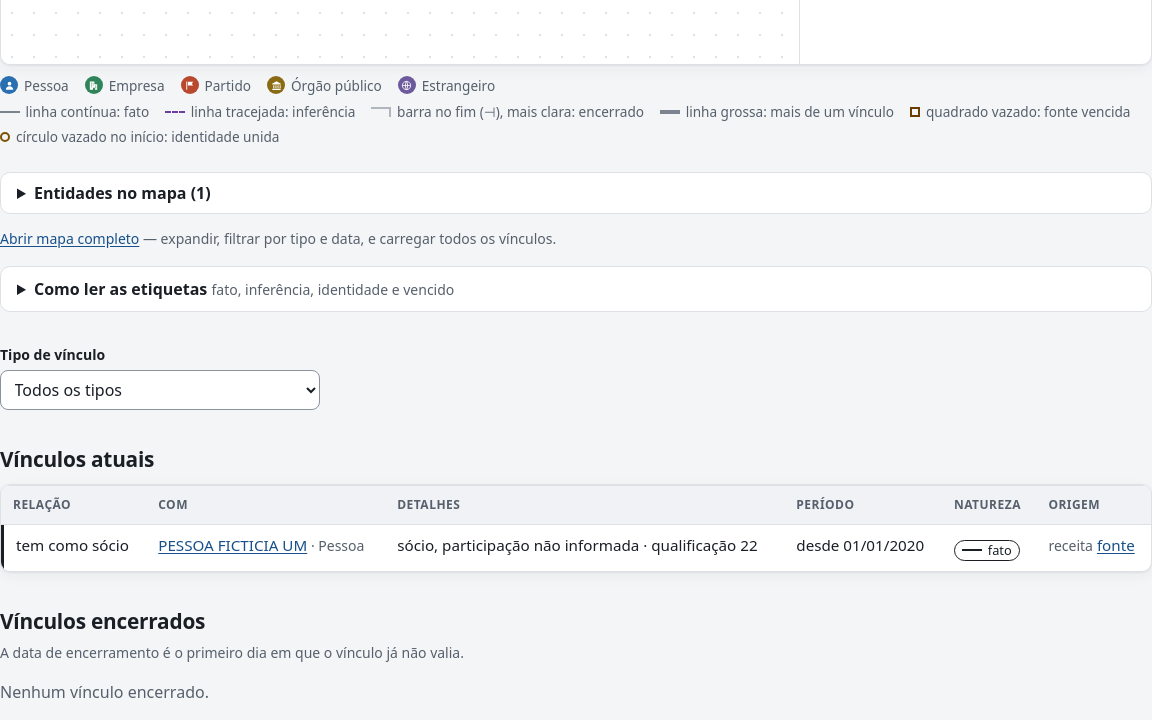
Scenario: EntityPage › clicar na fonte de um vínculo abre a proveniência dele
(page scrolled)
Click the button "fonte". click: (1116, 546)
box: [1097,534,1135,558]
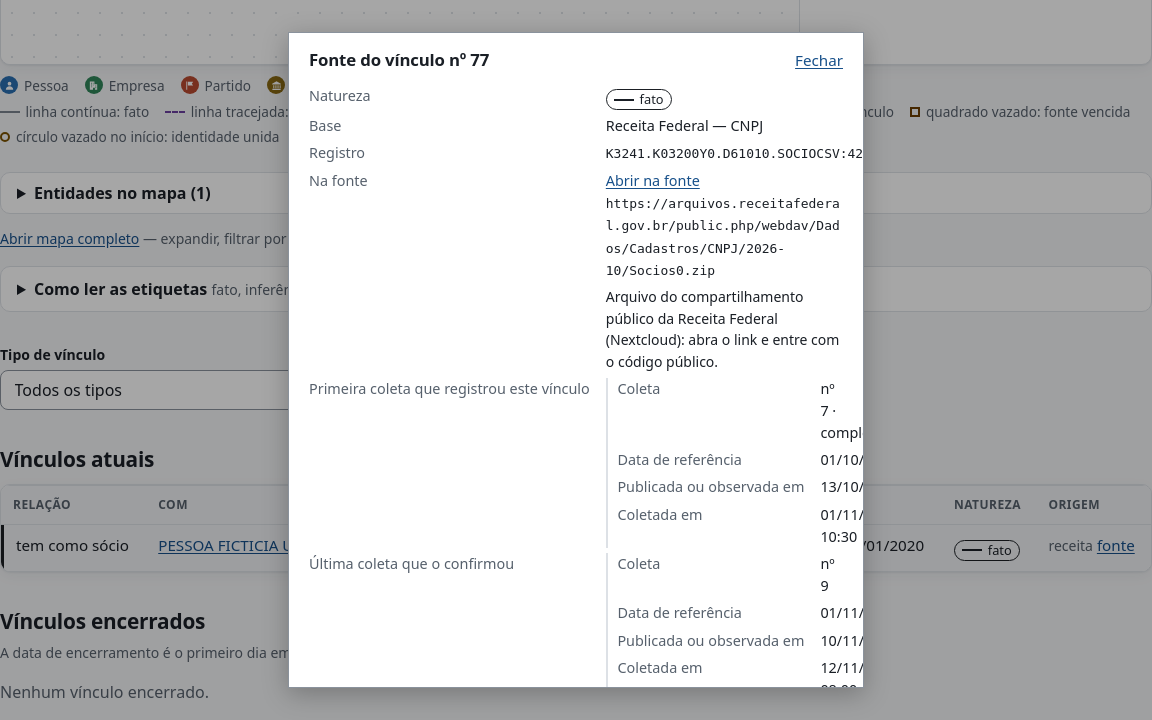
Now the text "Receita Federal — CNPJ" is shown, box [606,116,763,135]
